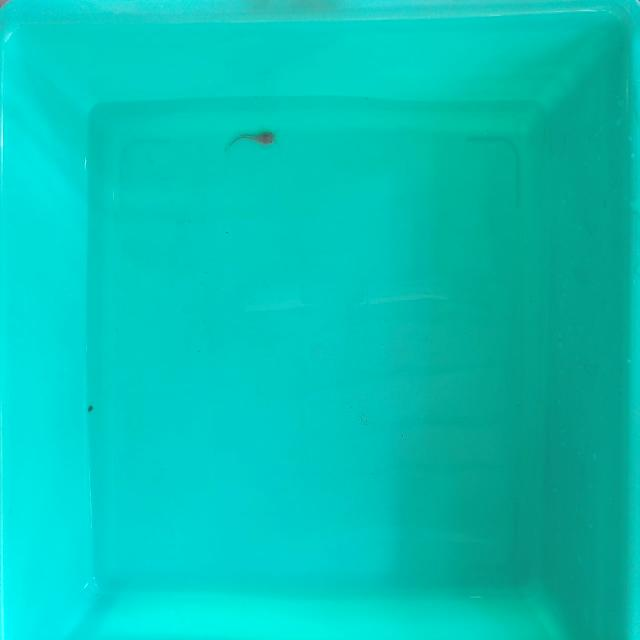lele: (225, 130, 277, 150)
